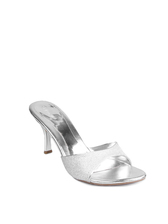shoes: (27, 101, 152, 187)
